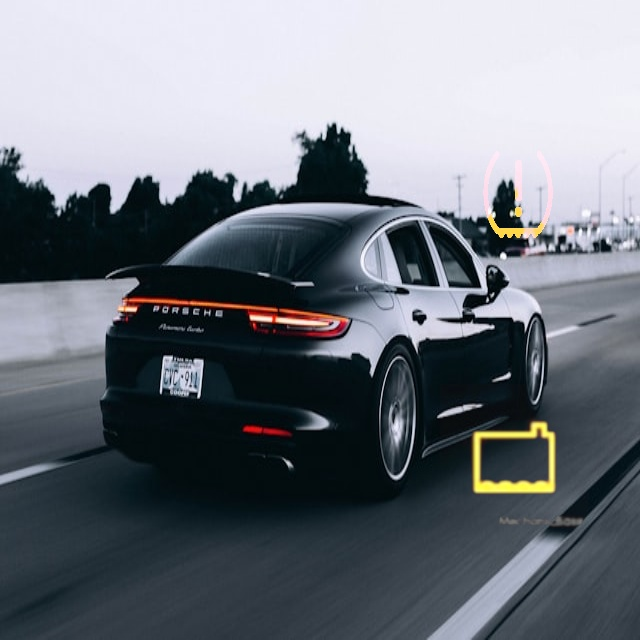symbol: (440, 384, 589, 533), (447, 120, 589, 262)
